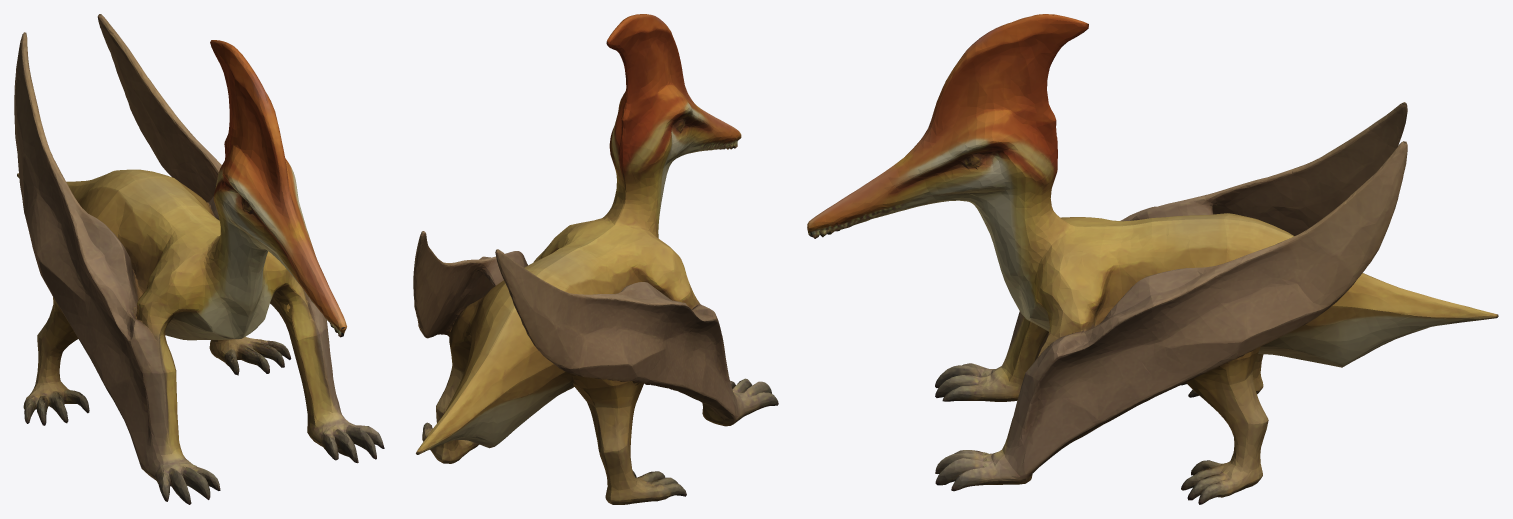
3 renders of one model, left to right at view 1: azimuth 30°, elevation 25°; view 2: azimuth 150°, elevation 25°; view 3: azimuth 270°, elevation 25°, orthographic. The views are drawn at different scales.
Visible parts, largest first — view 1: geometry_0; view 2: geometry_0; view 3: geometry_0.
Part boxes in pixels (x1,y1,x2,y2): geometry_0: (14,14,384,504); geometry_0: (413,14,778,504); geometry_0: (807,14,1498,504).
Bounding box in the file's own units: 0.4701 × 0.6779 × 1.
Materials: 1 (1 with a texture image).
